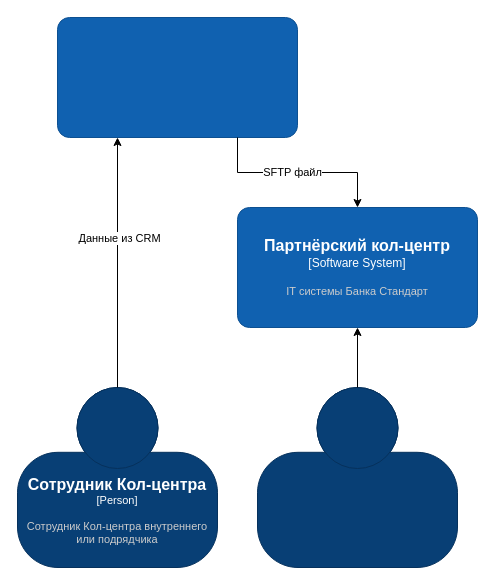
The diagram is 495 pixels wide and 585 high, and some of its shapes have lost their labels. The shapes that lost their labels are listed below. From the top down, each one's centre as x and y in pixels, then its label:
At [177,77]: "IT Банк Стандарт [Software System] IT системы Банка Стандарт".
At [357,477]: "Сотрудник партнерского кол-центра [Person] Сотрудник партнерского кол-центра".
